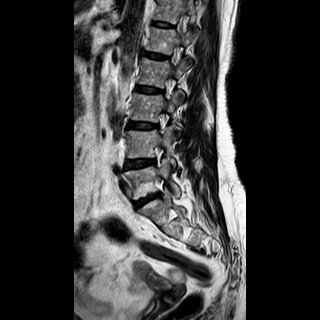LFS0: (146, 137, 170, 172), (150, 104, 175, 137), (156, 69, 178, 104), (165, 40, 188, 71)
